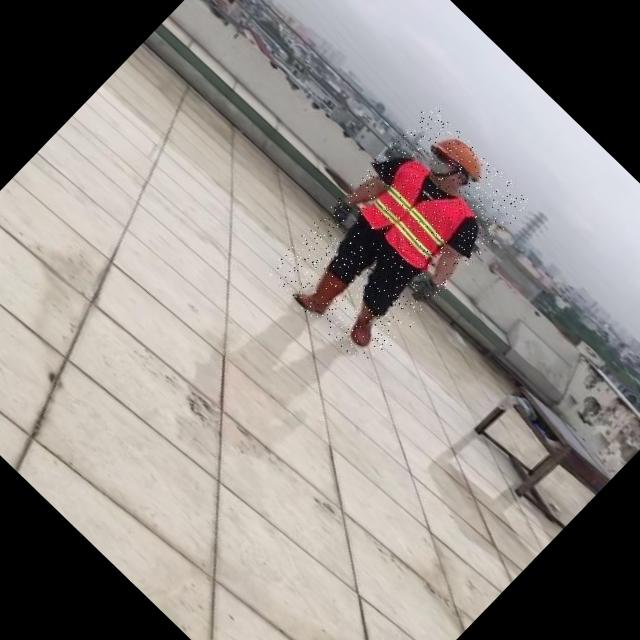hard_hat: (426, 122, 498, 194)
safety_vest: (355, 154, 480, 278)
vehicle: (264, 102, 532, 373)
work_boots: (337, 300, 394, 358), (294, 265, 351, 322)
